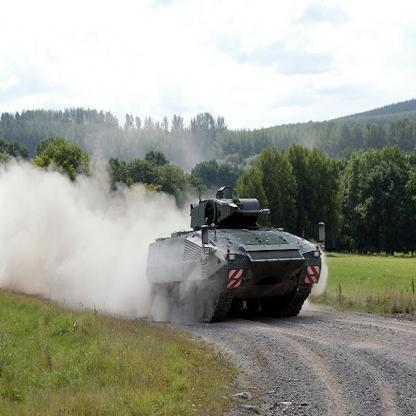Tank: (147, 186, 324, 334)
